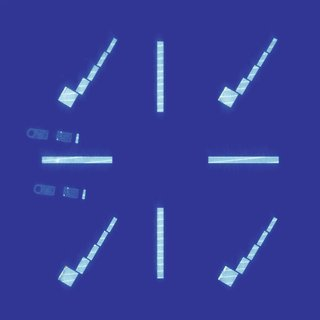overheated: (60, 265, 67, 276)
